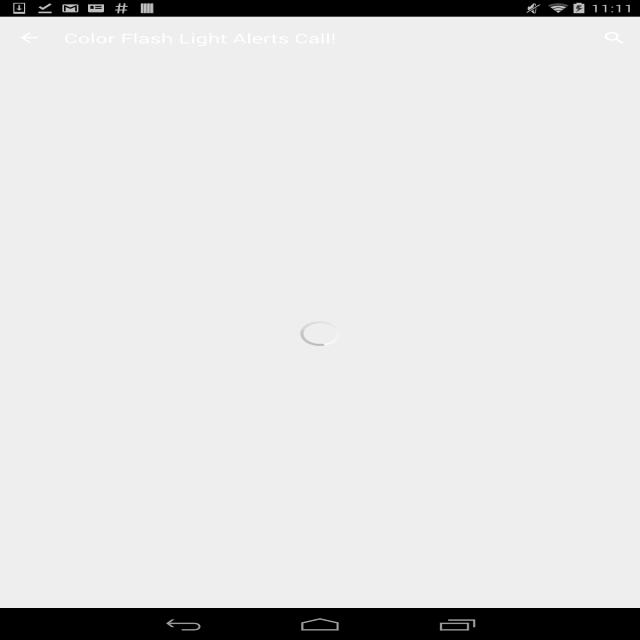Button: (222, 406, 316, 472), (324, 406, 418, 472), (426, 406, 520, 472), (454, 352, 614, 376)
ImageButton: (0, 17, 60, 59)
ImageView: (0, 59, 640, 254), (26, 270, 196, 377), (148, 571, 293, 640), (0, 571, 144, 640), (297, 571, 441, 640), (446, 571, 590, 640), (332, 406, 411, 455), (434, 406, 513, 455), (60, 30, 224, 46), (307, 518, 333, 534), (589, 270, 614, 286), (222, 312, 239, 323), (269, 464, 278, 469)
TextView: (0, 490, 640, 519), (0, 540, 640, 558), (222, 270, 589, 295), (25, 380, 166, 392), (589, 22, 640, 54), (324, 455, 418, 472), (426, 455, 520, 472), (120, 455, 213, 472), (222, 295, 329, 309), (498, 380, 614, 392), (397, 380, 485, 392), (245, 311, 316, 325), (144, 420, 188, 440), (250, 415, 288, 437), (259, 455, 266, 472)
